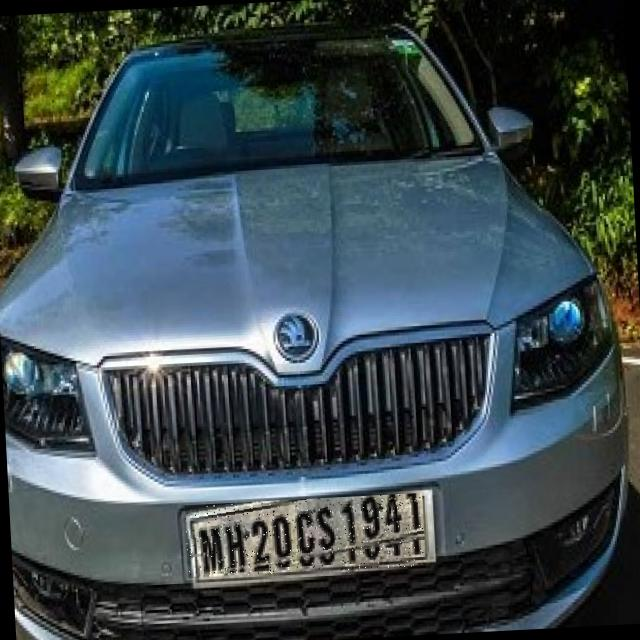Plate: (186, 494, 427, 579)
